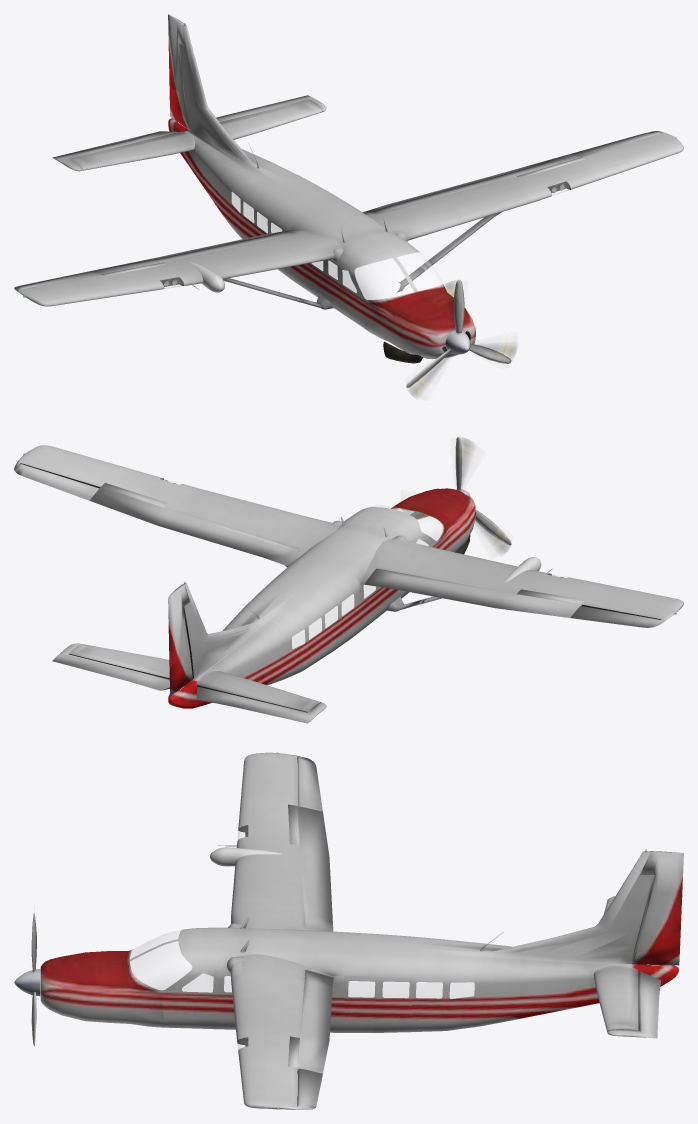
3 renders of one model, top to bottom at view 1: azimuth 30°, elevation 25°; view 2: azimuth 150°, elevation 25°; view 3: azimuth 270°, elevation 25°, orthographic. The views are drawn at different scales.
Parts seen in each view (by area): view 1: voletG, vitresporte, propdisc; view 2: voletG, vitresporte, propdisc; view 3: voletG, vitresporte.
Boxes of the visible parts, box(x1,y1,x2,y2) form: voletG: box(14, 14, 683, 387); vitresporte: box(160, 181, 570, 299); propdisc: box(409, 281, 516, 396); voletG: box(14, 437, 683, 723); vitresporte: box(161, 478, 567, 648); propdisc: box(403, 438, 509, 553); voletG: box(14, 752, 683, 1109); vitresporte: box(130, 825, 474, 1049).
Size of the model in its own units: 15.85 by 4.09 by 12.6.
Materials: 5 (2 with a texture image).
